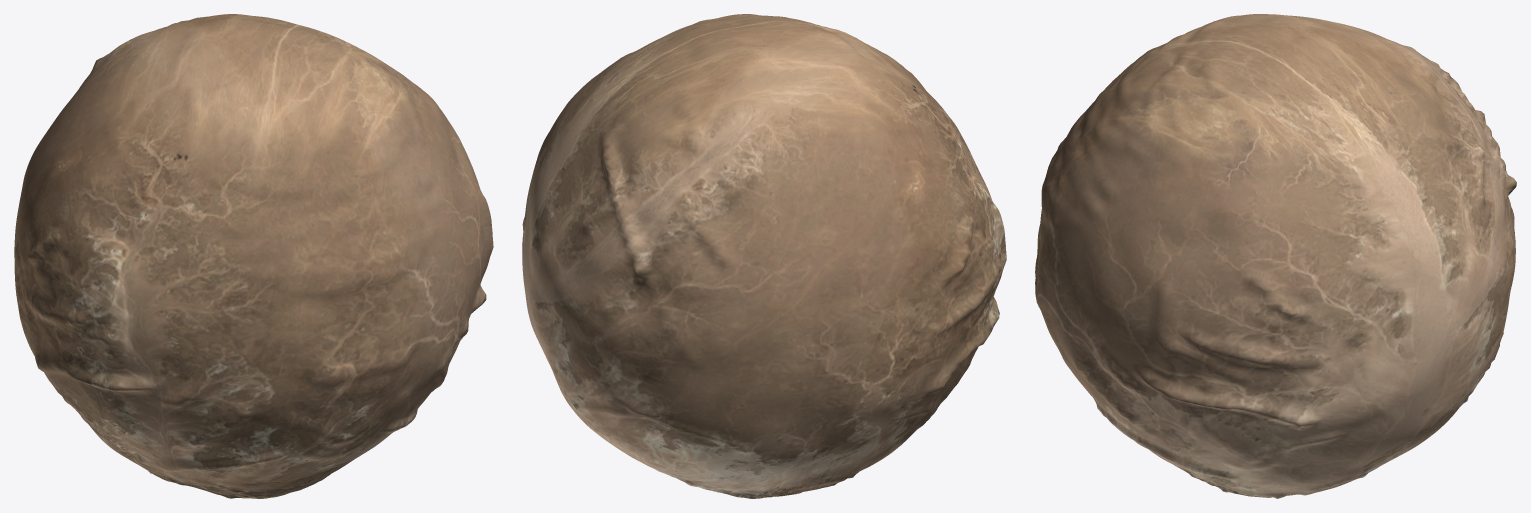
File: planet.obj
3 views of the same model, side by side, from view 1: azimuth 30°, elevation 25°; view 2: azimuth 150°, elevation 25°; view 3: azimuth 270°, elevation 25° (orthographic).
Visible parts, largest first — view 1: Sphere_Sphere.002; view 2: Sphere_Sphere.002; view 3: Sphere_Sphere.002.
Boxes of the visible parts, <box> form: Sphere_Sphere.002: <box>14,14,493,498</box>; Sphere_Sphere.002: <box>522,14,1006,498</box>; Sphere_Sphere.002: <box>1035,14,1516,498</box>.
Size of the model in its own units: 10.44 by 10.38 by 10.19.
Materials: 1 (1 with a texture image).
